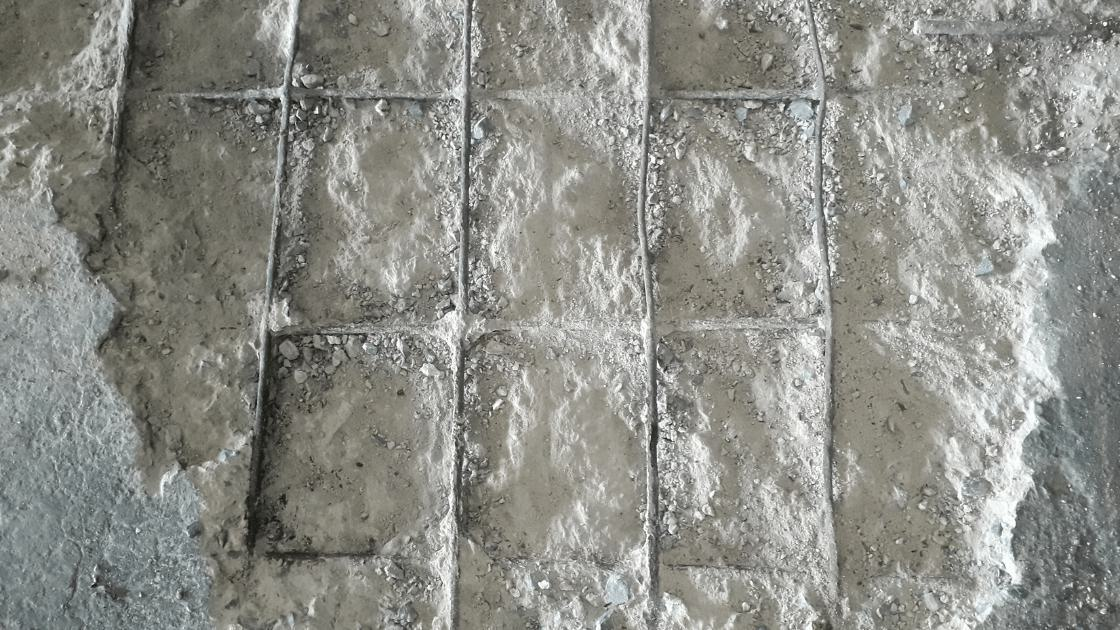Exposed reinforcement: (246, 1, 301, 558), (802, 1, 842, 630), (446, 1, 472, 630), (205, 548, 807, 575), (269, 311, 833, 339), (636, 1, 660, 630), (1, 87, 828, 102), (110, 1, 134, 186)
Spalling: (1, 1, 1120, 630)
